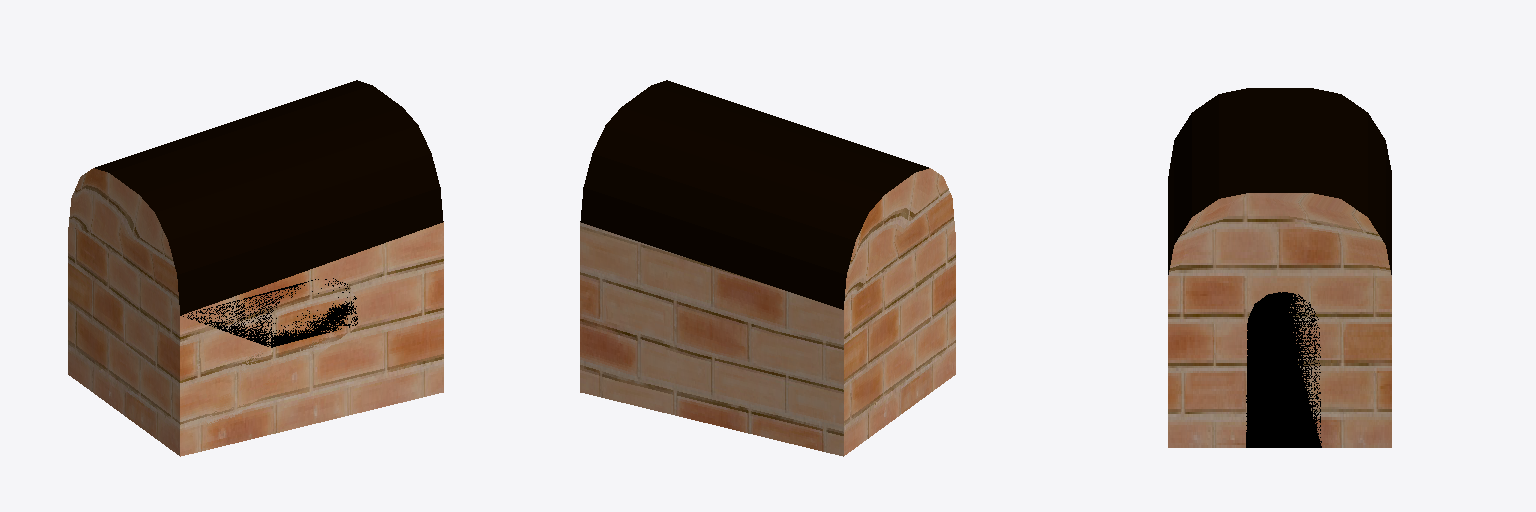
3 views of the same model, side by side, from view 1: azimuth 30°, elevation 25°; view 2: azimuth 150°, elevation 25°; view 3: azimuth 270°, elevation 25° (orthographic).
Parts seen in each view (by area): view 1: pCube1; view 2: pCube1; view 3: pCube1.
Part boxes in pixels (x1,y1,x2,y2): pCube1: (68,80,443,456); pCube1: (580,80,955,456); pCube1: (1168,88,1391,447).
Size of the model in its own units: 11.7 by 10.83 by 8.61.
4 materials, 1 textured.